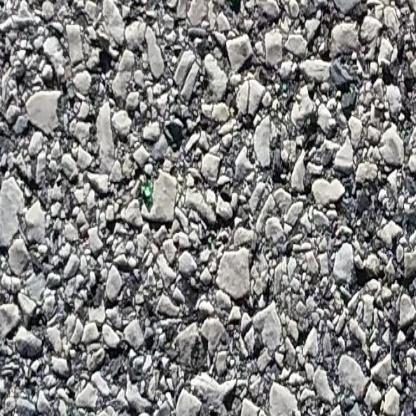Cracks: (340, 257, 416, 307), (0, 0, 21, 100)
